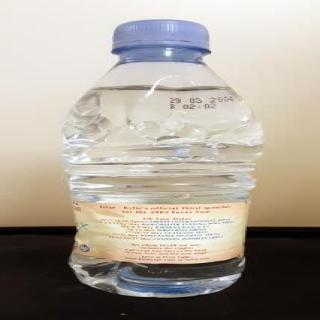Anorganik: (66, 13, 262, 303)
